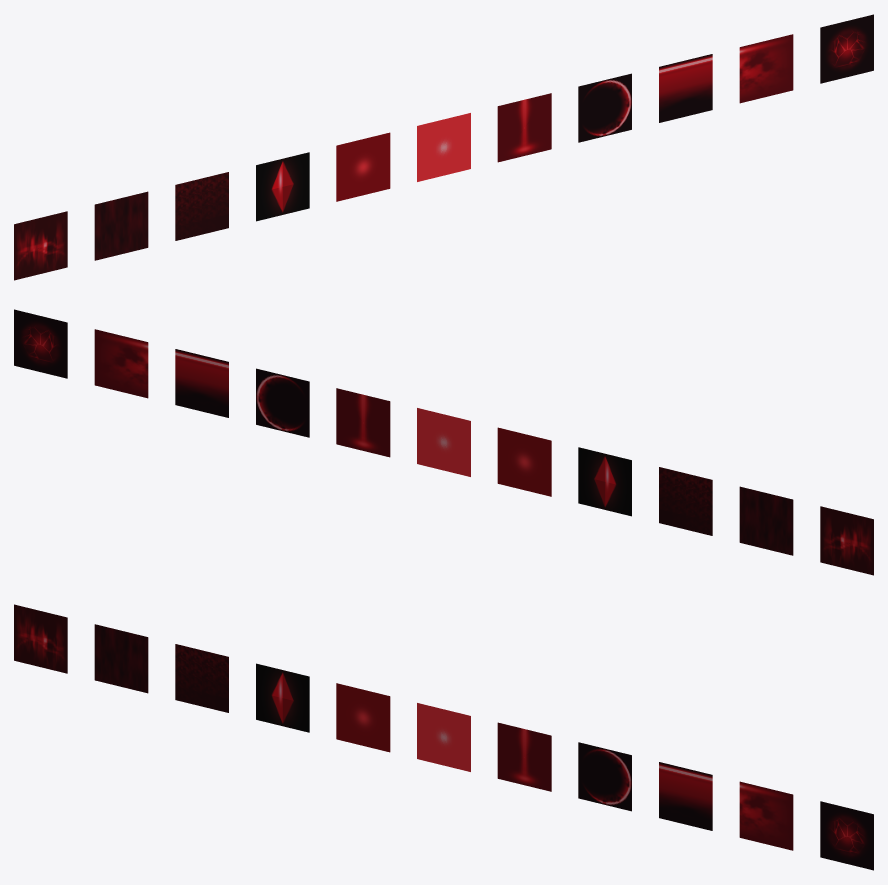
The model's file is ScytheVFX.fbx.
3 views of the same model, one above another, from view 1: azimuth 30°, elevation 25°; view 2: azimuth 150°, elevation 25°; view 3: azimuth 330°, elevation 25° (orthographic).
Visible parts, largest first — view 1: Tex_SmokeRibbon, Tex_Trail, Tex_Drip, Tex_Glow, Tex_GroundGlow, Tex_Ribbon, Tex_Shard, Tex_Slash, Tex_SlashBand, Tex_Smoke, Tex_Spark; view 2: Tex_SmokeRibbon, Tex_Trail, Tex_Drip, Tex_Glow, Tex_GroundGlow, Tex_Ribbon, Tex_Shard, Tex_Slash, Tex_SlashBand, Tex_Smoke, Tex_Spark; view 3: Tex_SmokeRibbon, Tex_Trail, Tex_Drip, Tex_Glow, Tex_GroundGlow, Tex_Ribbon, Tex_Shard, Tex_Slash, Tex_SlashBand, Tex_Smoke, Tex_Spark.
Boxes of the visible parts, x1,y1,x2,y2 form: Tex_SmokeRibbon: [94, 191, 148, 260]; Tex_Trail: [739, 34, 793, 103]; Tex_Drip: [497, 93, 551, 162]; Tex_Glow: [336, 132, 390, 201]; Tex_GroundGlow: [820, 14, 873, 83]; Tex_Ribbon: [14, 211, 67, 280]; Tex_Shard: [256, 152, 309, 221]; Tex_Slash: [578, 73, 631, 142]; Tex_SlashBand: [659, 54, 712, 122]; Tex_Smoke: [175, 172, 228, 240]; Tex_Spark: [417, 113, 470, 181]; Tex_SmokeRibbon: [739, 486, 793, 555]; Tex_Trail: [94, 329, 148, 398]; Tex_Drip: [336, 388, 390, 457]; Tex_Glow: [497, 427, 551, 496]; Tex_GroundGlow: [14, 309, 67, 378]; Tex_Ribbon: [820, 506, 873, 575]; Tex_Shard: [578, 447, 631, 516]; Tex_Slash: [256, 368, 309, 437]; Tex_SlashBand: [175, 349, 228, 417]; Tex_Smoke: [659, 467, 712, 535]; Tex_Spark: [417, 408, 470, 476]; Tex_SmokeRibbon: [94, 624, 148, 693]; Tex_Trail: [739, 781, 793, 850]; Tex_Drip: [497, 722, 551, 791]; Tex_Glow: [336, 683, 390, 752]; Tex_GroundGlow: [820, 801, 873, 870]; Tex_Ribbon: [14, 604, 67, 673]; Tex_Shard: [256, 663, 309, 732]; Tex_Slash: [578, 742, 631, 811]; Tex_SlashBand: [659, 762, 712, 830]; Tex_Smoke: [175, 644, 228, 712]; Tex_Spark: [417, 703, 470, 771].
Size of the model in its own units: 3.2 by 0.2 by 0.
11 materials, 11 textured.
